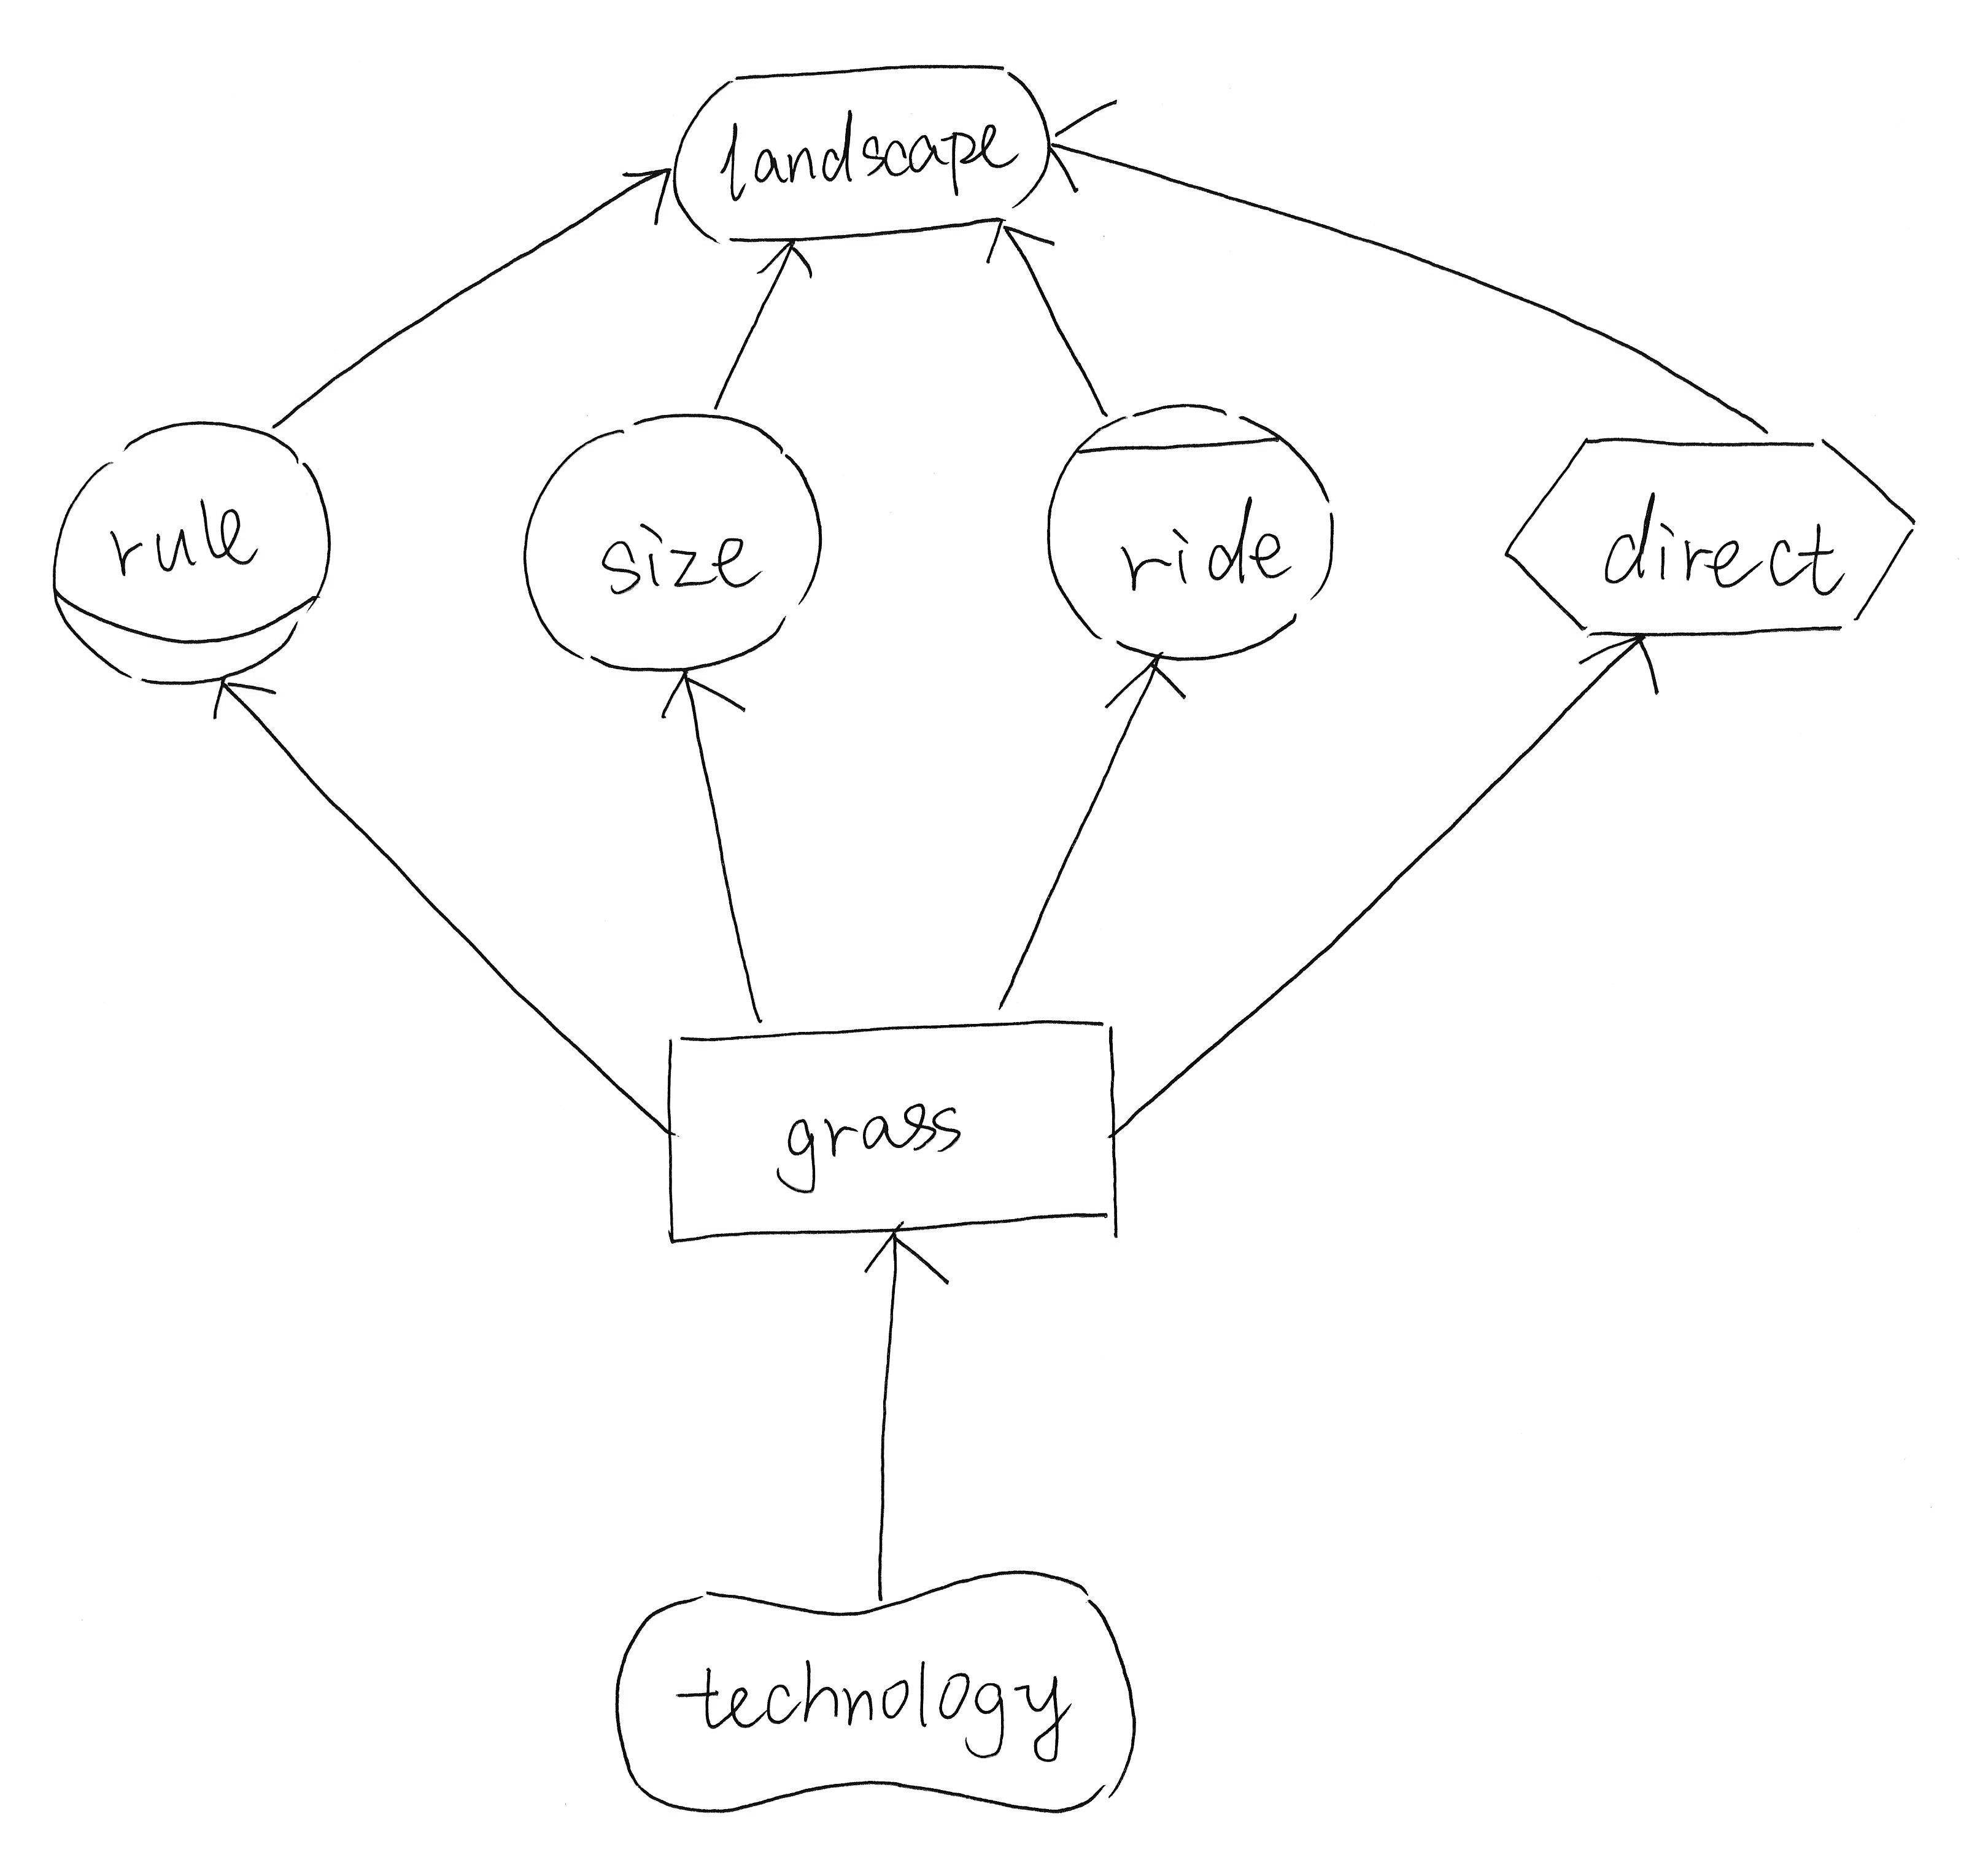actor: (510, 393, 834, 700)
agent: (1028, 376, 1354, 684)
arrow: (1038, 93, 1139, 205), (1083, 640, 1195, 716), (1569, 633, 1680, 707), (654, 658, 756, 733), (857, 1218, 957, 1294), (610, 146, 682, 247), (197, 666, 286, 733), (975, 213, 1065, 275), (748, 234, 829, 289)
goal: (649, 44, 1065, 259)
quality: (592, 1548, 1153, 1830)
resource: (647, 994, 1141, 1261)
role: (32, 402, 349, 703)
task: (1492, 418, 1932, 658)
